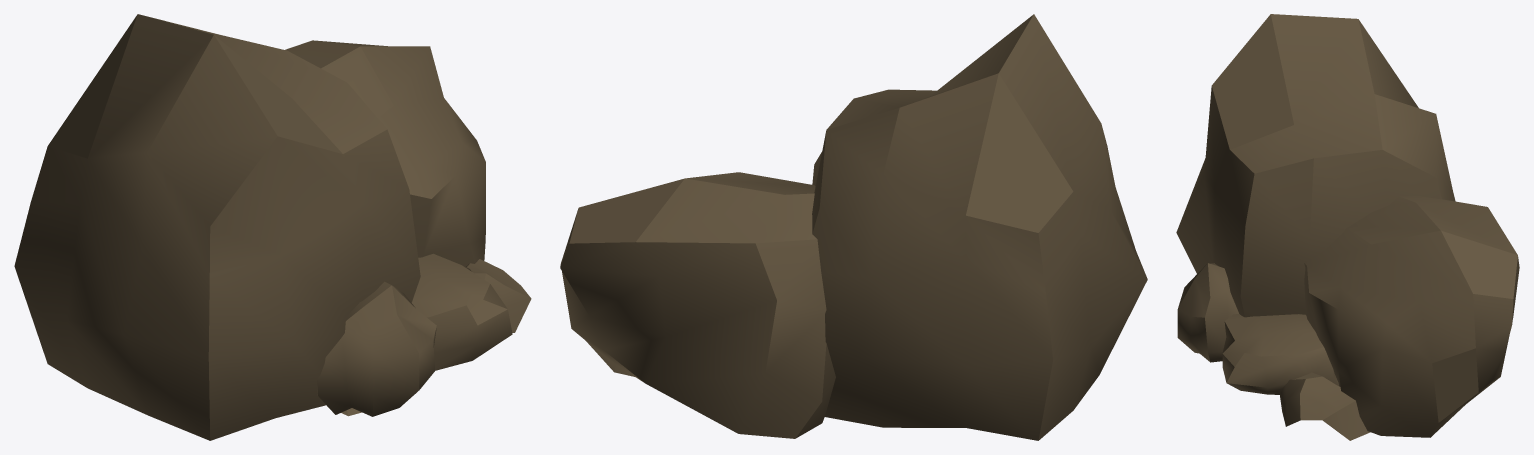
File: rock_pile_3.fbx
The picture shows the model from 3 angles, left to right: view 1: azimuth 30°, elevation 25°; view 2: azimuth 150°, elevation 25°; view 3: azimuth 270°, elevation 25°; orthographic projection. The views are drawn at different scales.
Parts seen in each view (by area): view 1: rock_pile_3; view 2: rock_pile_3; view 3: rock_pile_3.
Part boxes in pixels (box(x1,y1,x2,y2)): rock_pile_3: box(14, 14, 531, 440); rock_pile_3: box(560, 14, 1147, 440); rock_pile_3: box(1176, 14, 1519, 440).
Size of the model in its own units: 281 by 219 by 226.
